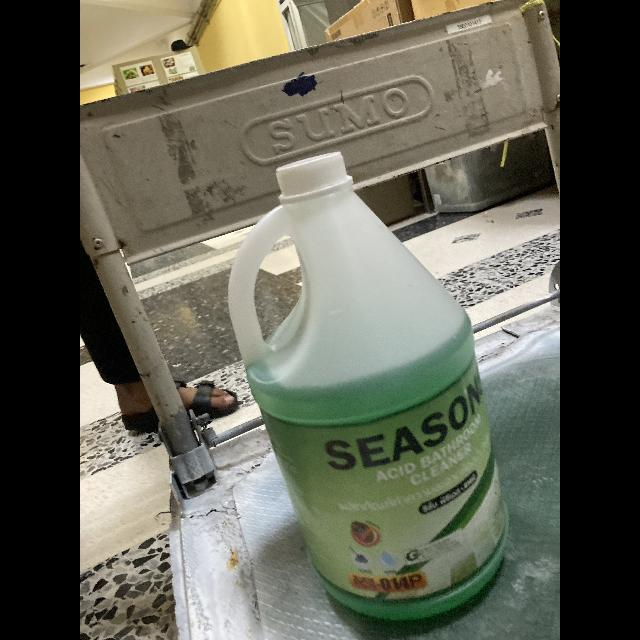chemical_plastic_gallon: (225, 148, 512, 624)
